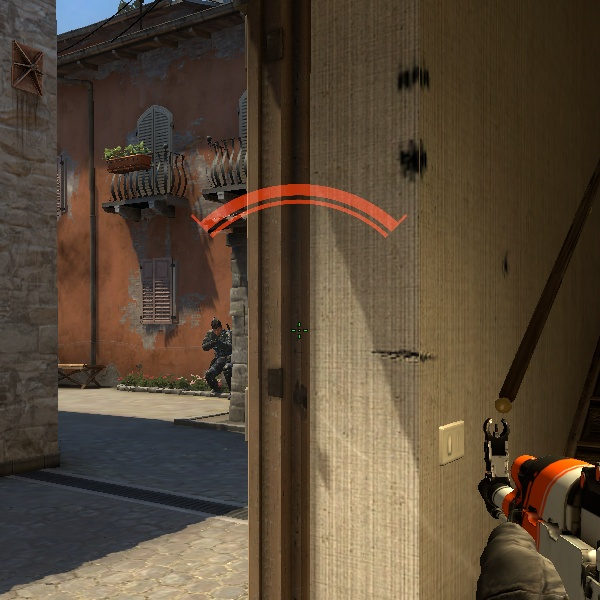ct_body: (196, 317, 236, 396)
